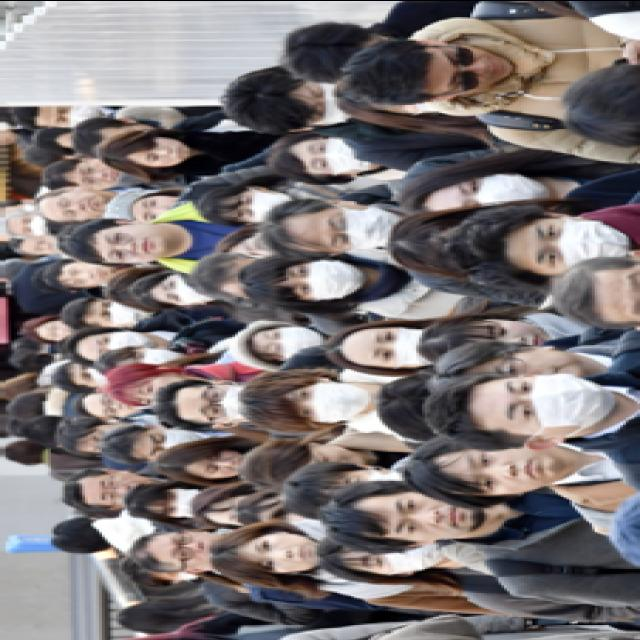mask: (496, 373, 614, 435), (524, 218, 629, 276), (317, 206, 397, 252), (286, 382, 368, 424), (283, 261, 365, 301), (453, 174, 549, 208), (351, 542, 445, 574), (366, 328, 430, 370), (300, 138, 371, 174), (252, 326, 320, 362), (297, 82, 348, 126), (193, 384, 249, 424), (229, 190, 289, 222), (142, 430, 196, 460), (88, 332, 150, 358), (156, 486, 202, 518), (90, 301, 144, 328), (48, 106, 99, 128), (128, 348, 182, 367)
no_mask: (456, 448, 555, 496), (388, 493, 482, 541), (433, 45, 513, 96), (96, 224, 167, 264), (247, 532, 314, 574), (484, 350, 584, 378), (94, 473, 156, 508), (164, 531, 218, 568), (476, 318, 544, 346), (49, 190, 104, 222), (192, 450, 244, 480), (136, 139, 187, 168), (71, 162, 119, 190), (60, 262, 110, 288), (91, 393, 133, 418), (133, 195, 173, 221)
